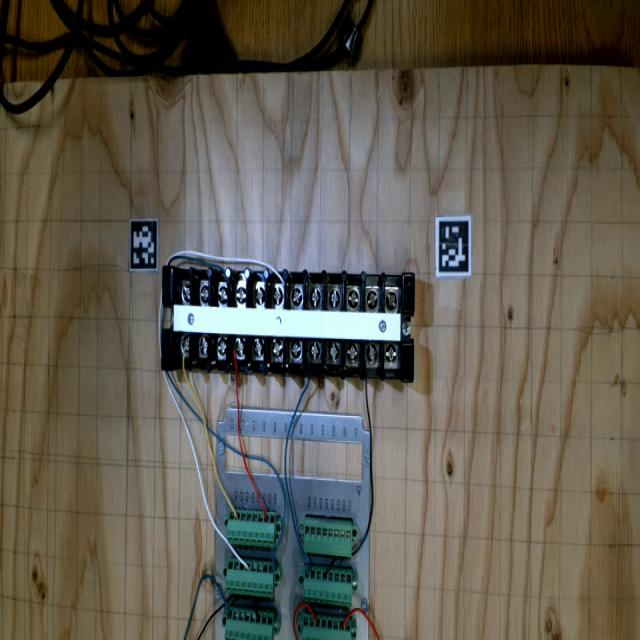Phillips_Block: (158, 261, 418, 382)
Terminal_2: (301, 565, 355, 607), (226, 508, 277, 548), (225, 558, 276, 598), (225, 606, 274, 640), (302, 613, 351, 639)
